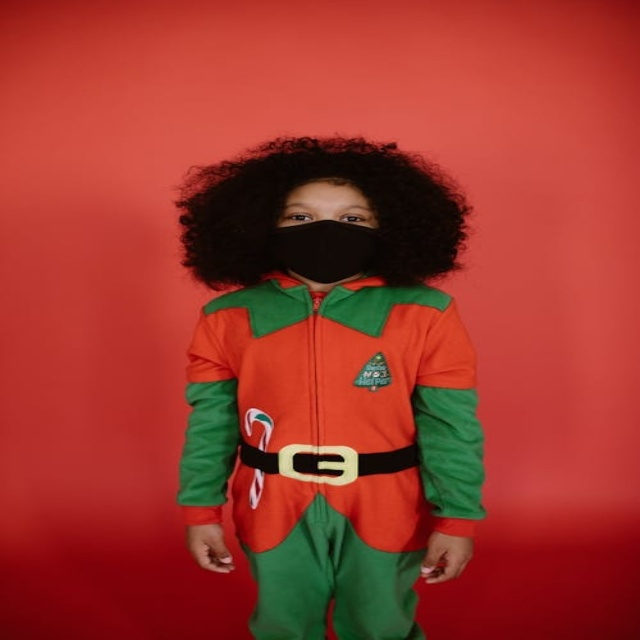Mascara: (271, 222, 382, 282)
Sin_gafas: (286, 214, 314, 222), (340, 215, 367, 222)
Sin_guantes: (416, 529, 477, 588), (184, 521, 241, 575)
